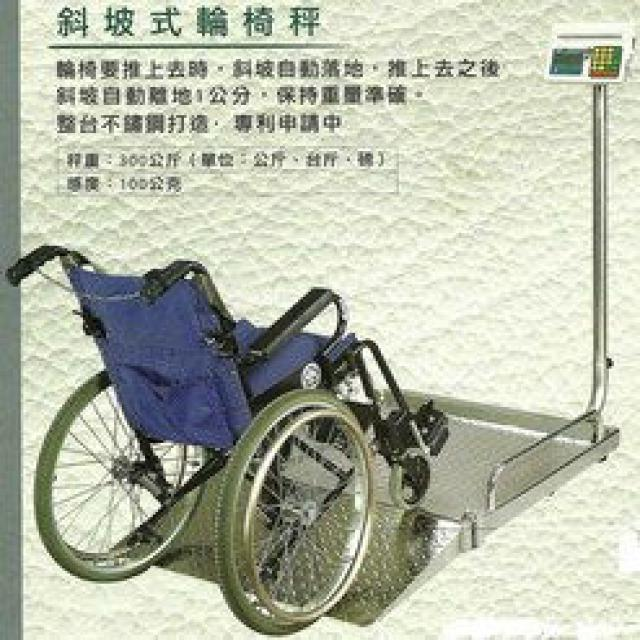wheelchair: (0, 228, 459, 624)
